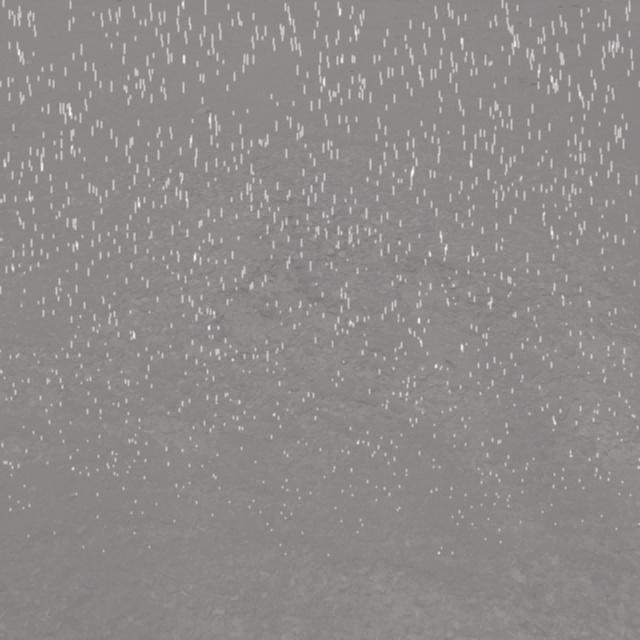Pothole: (203, 265, 394, 373)
